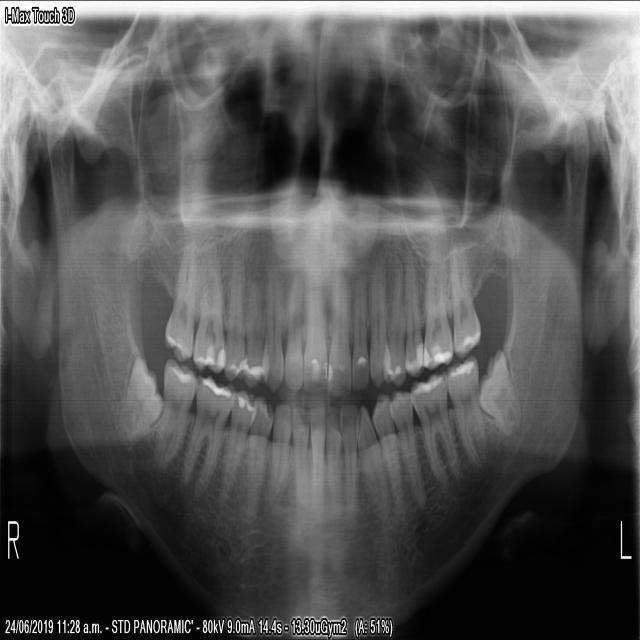LCU: (365, 250, 392, 388)
LID: (351, 398, 387, 525), (335, 398, 356, 529), (323, 399, 341, 522)
LIU: (324, 252, 350, 401), (348, 257, 368, 396)
LMD: (405, 365, 459, 486), (442, 349, 485, 469), (473, 338, 520, 441)
LMU: (418, 237, 453, 371), (448, 235, 480, 357)
LPMD: (385, 384, 426, 513), (369, 384, 405, 522)
LPMU: (379, 245, 406, 391), (398, 240, 424, 379)
RCD: (264, 397, 290, 510)
RCU: (257, 249, 283, 394)
RID: (288, 401, 307, 513), (306, 400, 324, 514)
RIU: (300, 258, 326, 397), (281, 258, 301, 392)
RMD: (179, 370, 236, 492), (151, 352, 197, 466), (120, 347, 161, 438)
RMU: (188, 244, 225, 375), (159, 238, 195, 361)
RPMD: (217, 383, 255, 502), (240, 391, 273, 519)
RPMU: (213, 242, 248, 382), (234, 244, 268, 387)
